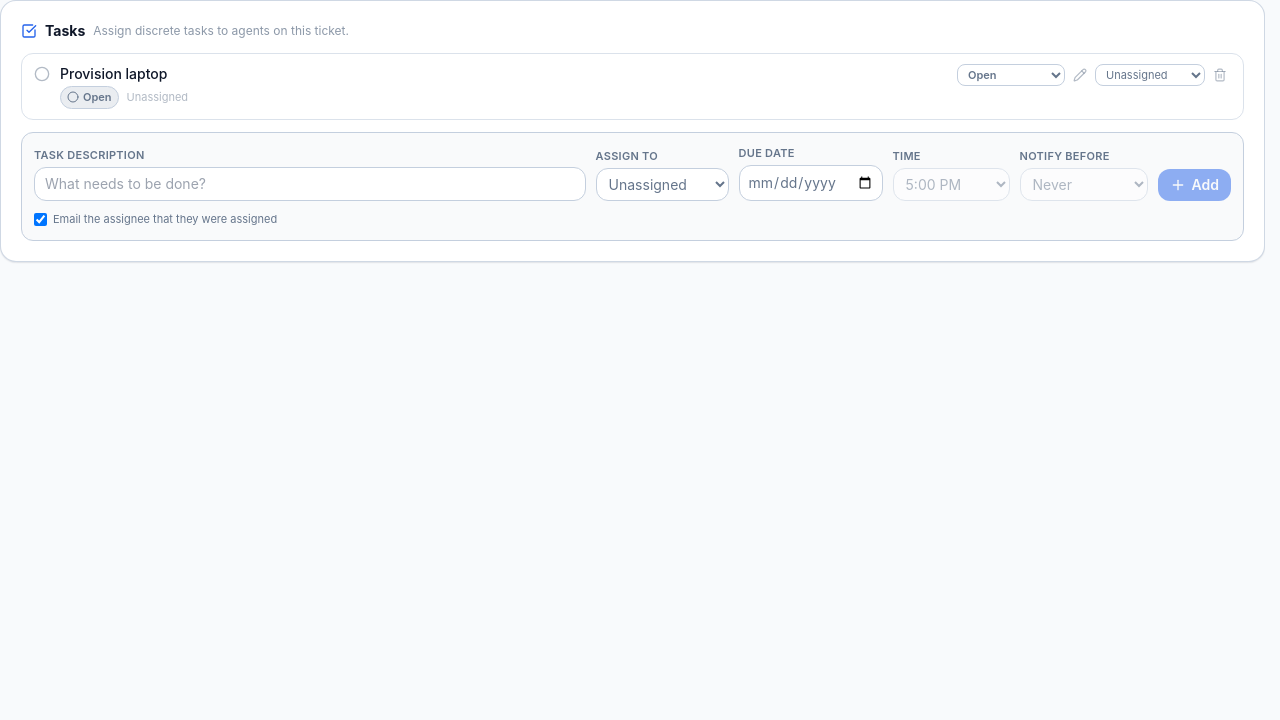
Test: TicketTasksTab due time + reminders (QA 08-04 #8) › saving an untouched popover sends no PATCH; Escape closes it
Expected: the text "Provision laptop" is shown, [60, 65, 168, 82]
Click the button named "Edit task".
click(1080, 75)  # box [1069, 64, 1091, 86]
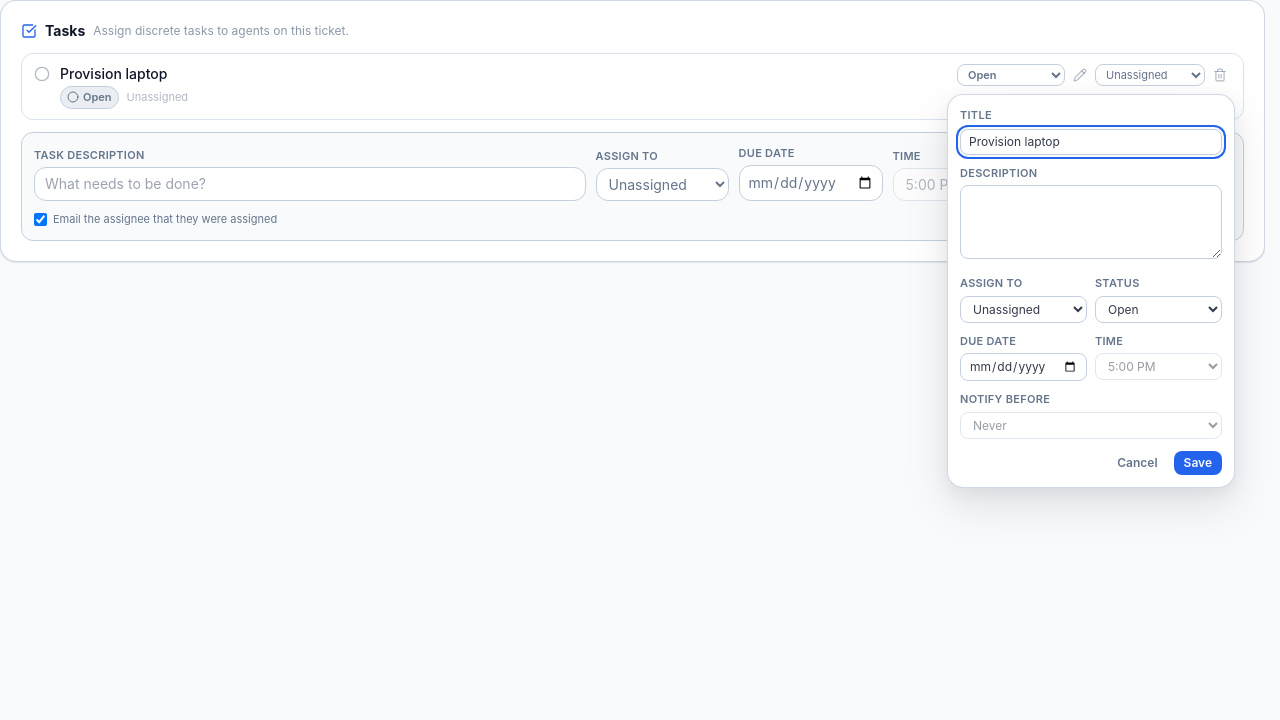
Click the button "Save".
click(1198, 462)  # box [1174, 450, 1222, 474]
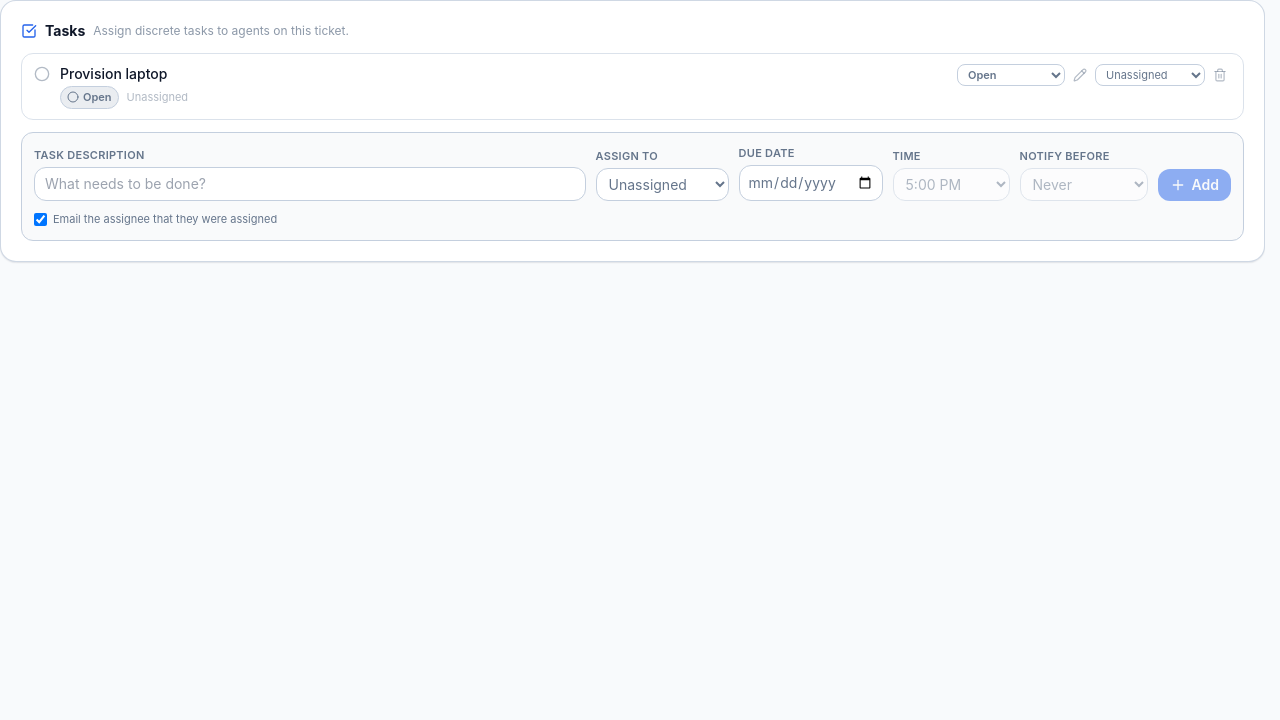
Now the dialog is gone
Click the button named "Edit task".
click(1080, 75)  # box [1069, 64, 1091, 86]
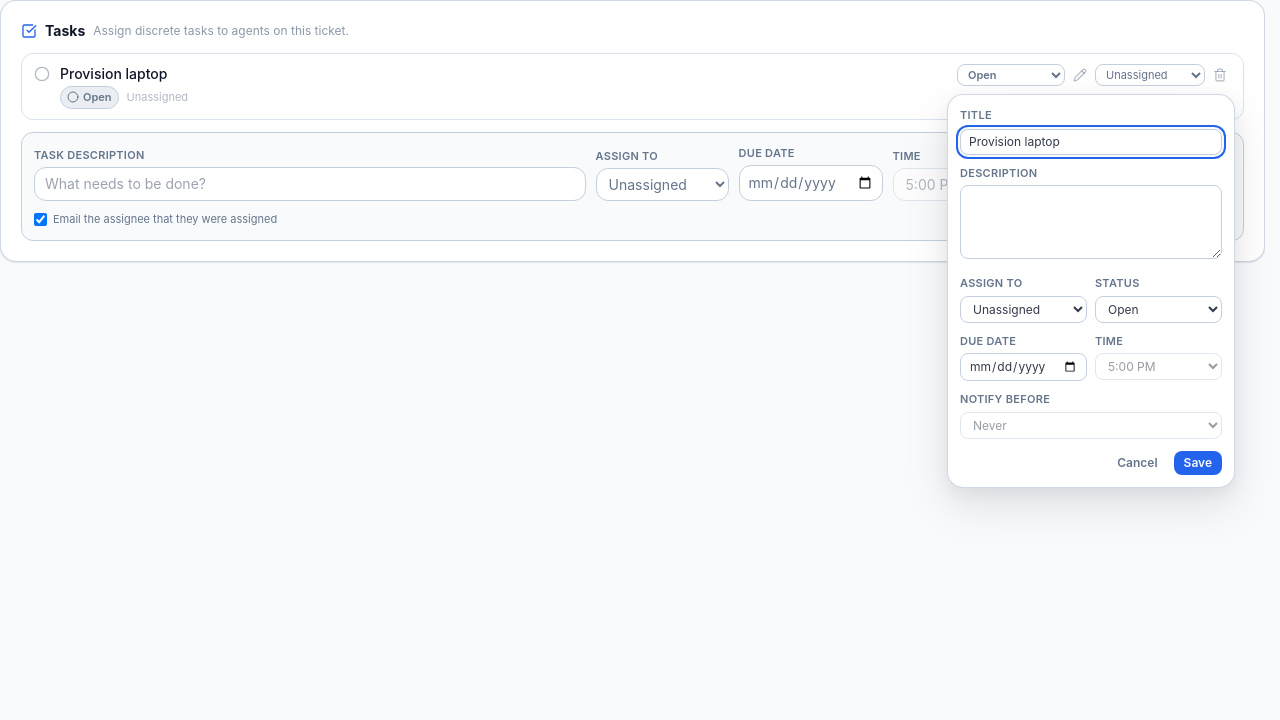
Press Escape in the dialog, box [947, 94, 1235, 488]
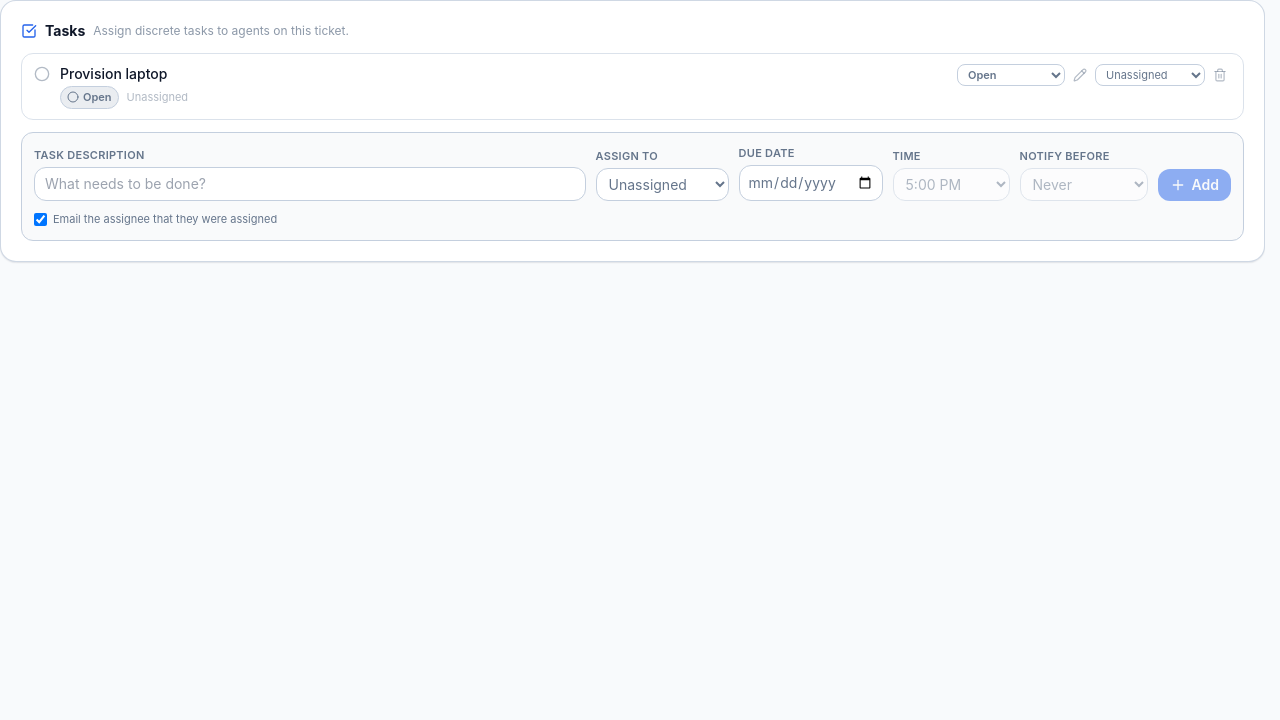
Now the dialog is gone
